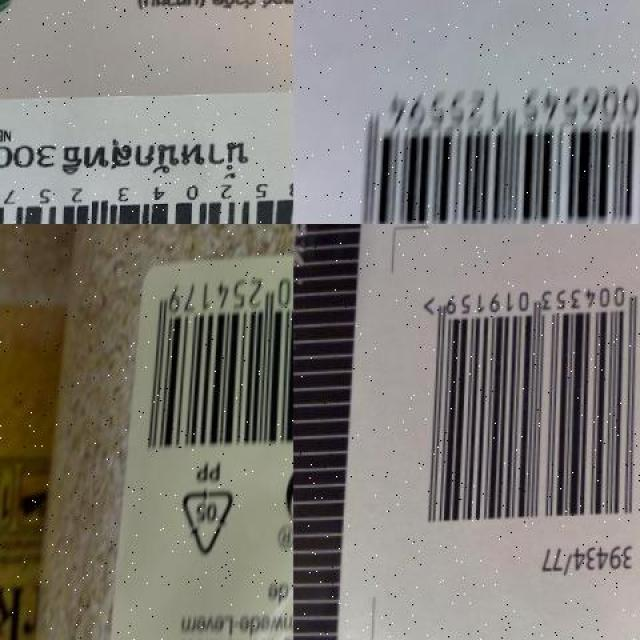Barcode: (373, 224, 640, 640), (341, 57, 640, 224), (138, 264, 294, 460), (0, 174, 293, 224)
